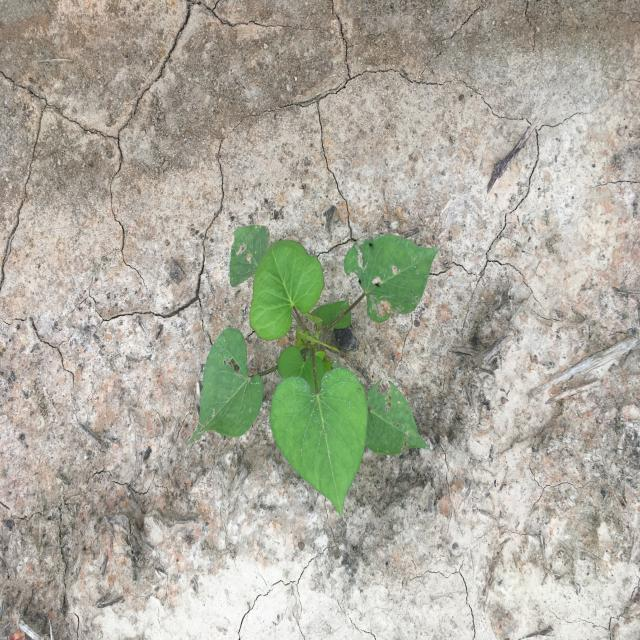MorningGlory: (187, 224, 440, 518)
